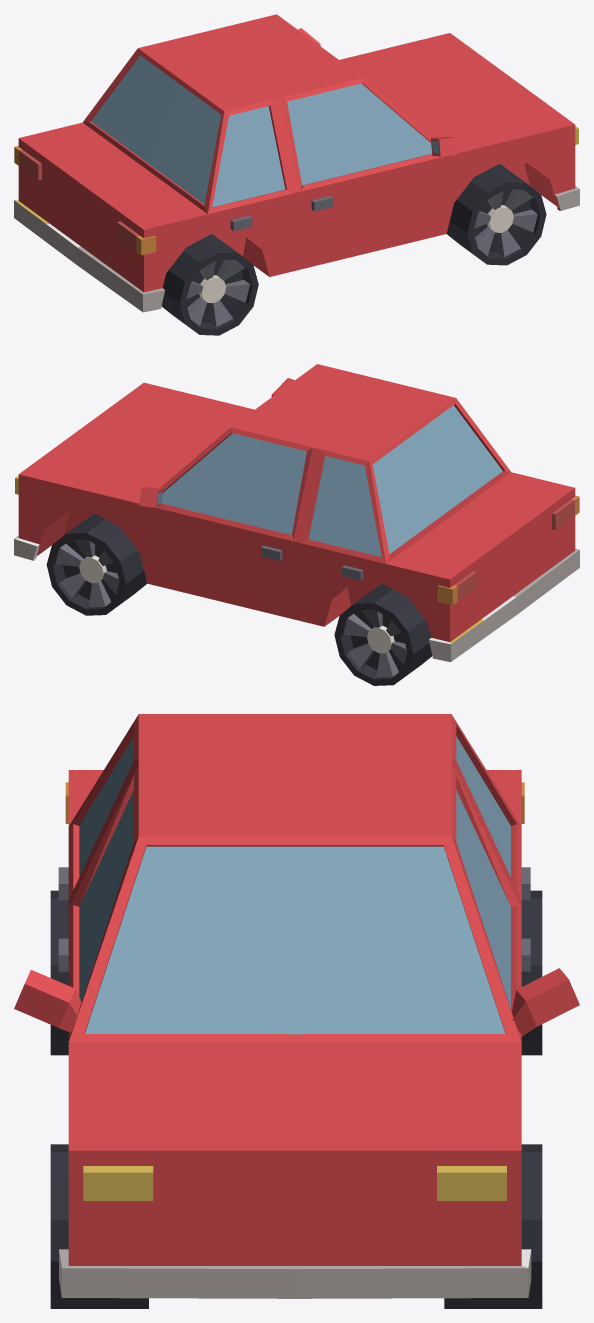
The model's file is car1.fbx.
3 renders of one model, top to bottom at view 1: azimuth 30°, elevation 25°; view 2: azimuth 150°, elevation 25°; view 3: azimuth 270°, elevation 25°, orthographic. The views are drawn at different scales.
Visible parts, largest first — view 1: Cylinder.001, Cylinder.011, Cylinder.008, Cylinder.007, Cylinder.006, Cylinder.004, Cylinder.010; view 2: Cylinder.001, Cylinder.011, Cylinder, Cylinder.002, Cylinder.004, Cylinder.006, Cylinder.009; view 3: Cylinder.011, Cylinder.001, Cylinder, Cylinder.008, Cylinder.009, Cylinder.010, Cylinder.005, Cylinder.003, Cylinder.002, Cylinder.007.
Boxes of the visible parts, <box> form: Cylinder.001: <box>14,33,579,312</box>; Cylinder.011: <box>83,14,444,213</box>; Cylinder.008: <box>446,163,546,265</box>; Cylinder.007: <box>161,234,258,335</box>; Cylinder.006: <box>117,221,156,255</box>; Cylinder.004: <box>14,146,41,180</box>; Cylinder.010: <box>431,136,456,156</box>; Cylinder.001: <box>14,382,579,662</box>; Cylinder.011: <box>156,364,510,563</box>; Cylinder: <box>46,513,147,615</box>; Cylinder.002: <box>334,584,432,685</box>; Cylinder.004: <box>437,571,476,605</box>; Cylinder.006: <box>552,495,579,529</box>; Cylinder.009: <box>139,487,162,507</box>; Cylinder.011: <box>68,714,521,1042</box>; Cylinder.001: <box>59,770,531,1298</box>; Cylinder: <box>444,1144,542,1308</box>; Cylinder.008: <box>50,1144,148,1308</box>; Cylinder.009: <box>512,968,579,1036</box>; Cylinder.010: <box>14,970,81,1032</box>; Cylinder.005: <box>83,1166,153,1200</box>; Cylinder.003: <box>437,1166,506,1200</box>; Cylinder.002: <box>521,890,542,1055</box>; Cylinder.007: <box>50,890,68,1055</box>.
Size of the model in its own units: 516 by 222 by 316.
